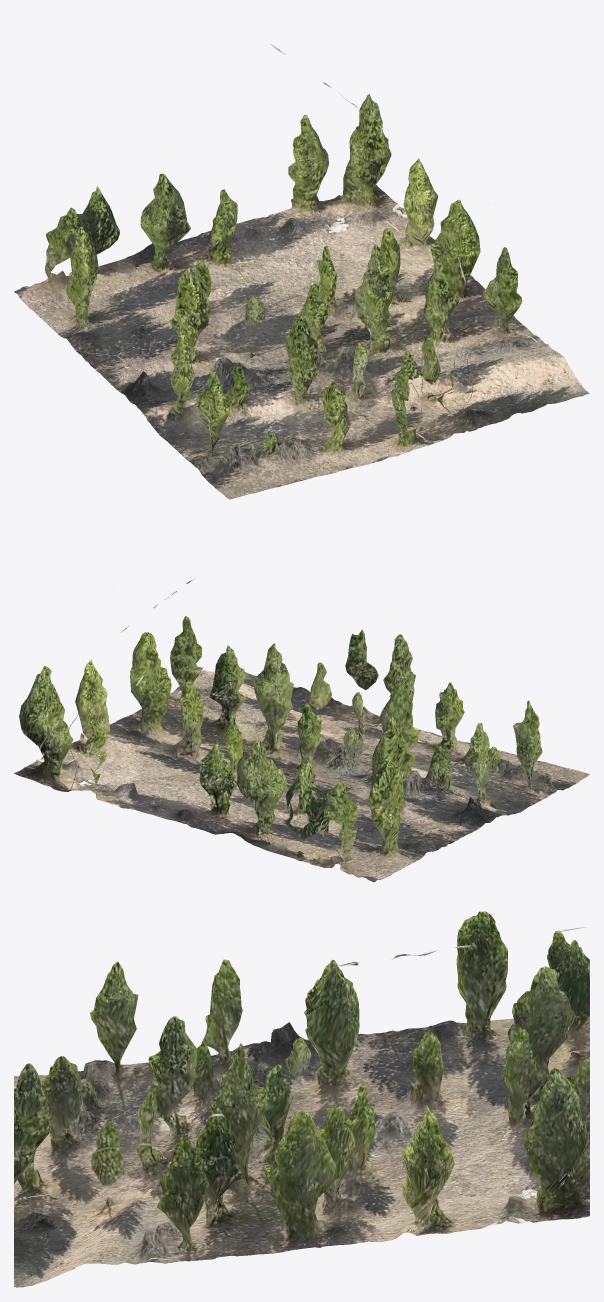
File: Block_L21_622.glb
The picture shows the model from 3 angles, top to bottom: view 1: azimuth 30°, elevation 25°; view 2: azimuth 150°, elevation 25°; view 3: azimuth 270°, elevation 25°; orthographic projection. The views are drawn at different scales.
Visible parts, largest first — view 1: rtc; view 2: rtc; view 3: rtc.
Part boxes in pixels (x1,y1,x2,y2): rtc: (14, 44, 589, 499); rtc: (14, 578, 589, 882); rtc: (14, 911, 589, 1287).
Size of the model in its own units: 19.85 by 12.7 by 20.58.
Materials: 4 (4 with a texture image).
